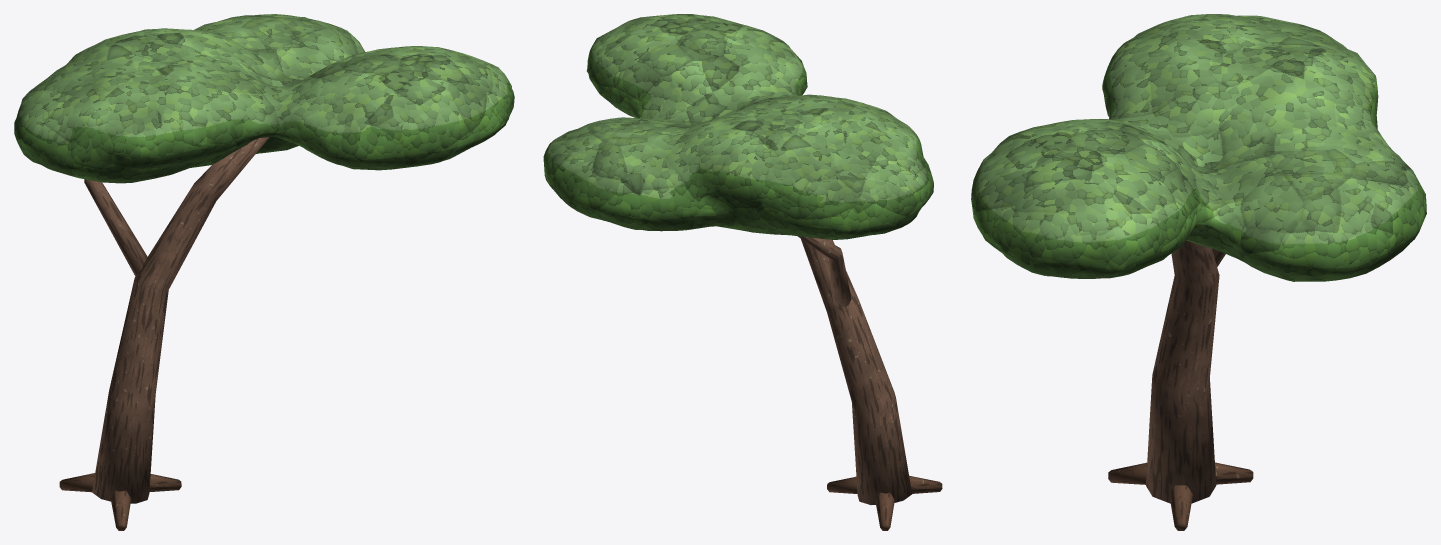
Rendered from crooked_tree_b.glb.
The picture shows the model from 3 angles, left to right: view 1: azimuth 30°, elevation 25°; view 2: azimuth 150°, elevation 25°; view 3: azimuth 270°, elevation 25°; orthographic projection. The views are drawn at different scales.
Parts seen in each view (by area): view 1: crown_leaf, Trunk; view 2: crown_leaf, Trunk; view 3: crown_leaf, Trunk.
Part boxes in pixels (left/top/right/bottom): crown_leaf: left=14, top=14, right=514, bottom=183; Trunk: left=59, top=137, right=269, bottom=530; crown_leaf: left=543, top=14, right=933, bottom=239; Trunk: left=797, top=236, right=942, bottom=530; crown_leaf: left=971, top=14, right=1426, bottom=281; Trunk: left=1108, top=240, right=1253, bottom=530.
Bounding box in the file's own units: 3.53 × 3.37 × 2.85.
1 material, 1 textured.
